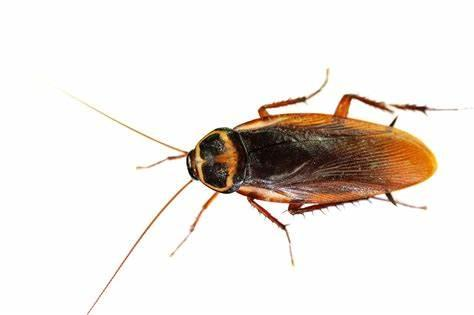cockroach: (181, 97, 442, 222)
